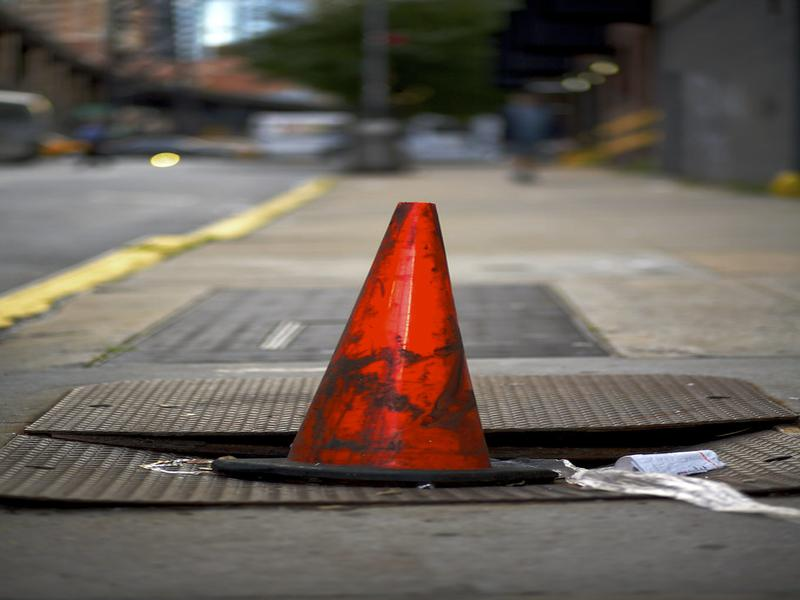Cone1: (196, 200, 559, 484)
